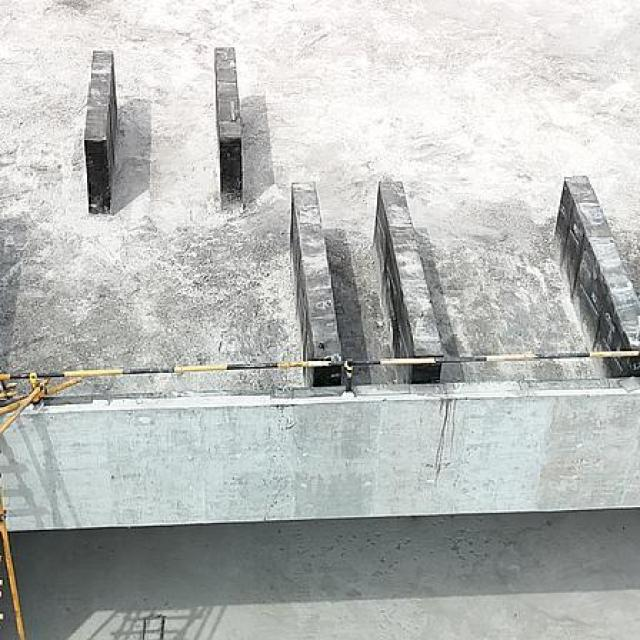edge_guardrail: (0, 349, 640, 394)
